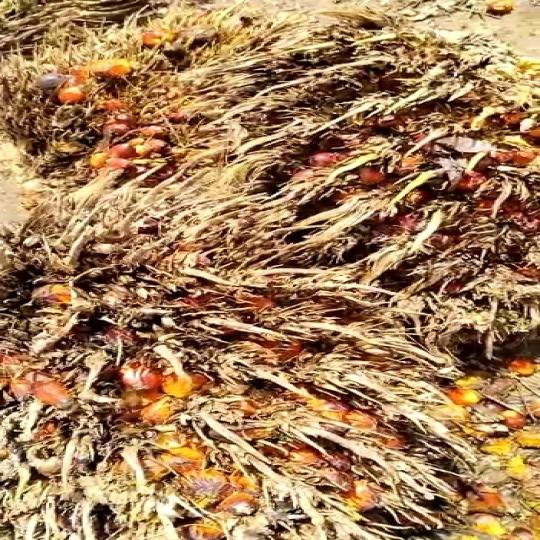terlalu masak: (0, 188, 415, 510), (0, 16, 261, 194)
